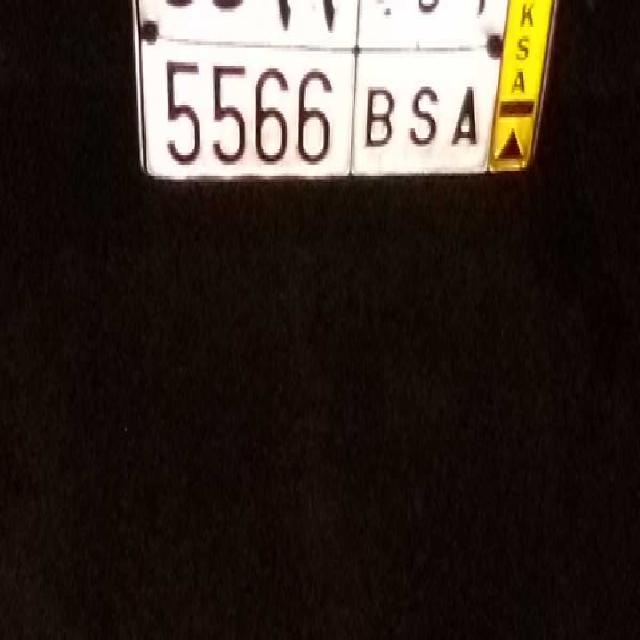license_plate: (153, 32, 491, 202)
